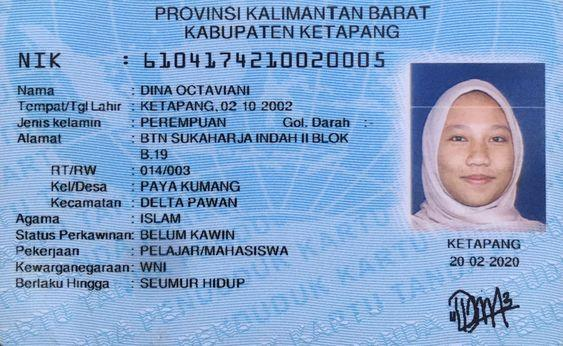ID-card: (1, 2, 562, 344)
